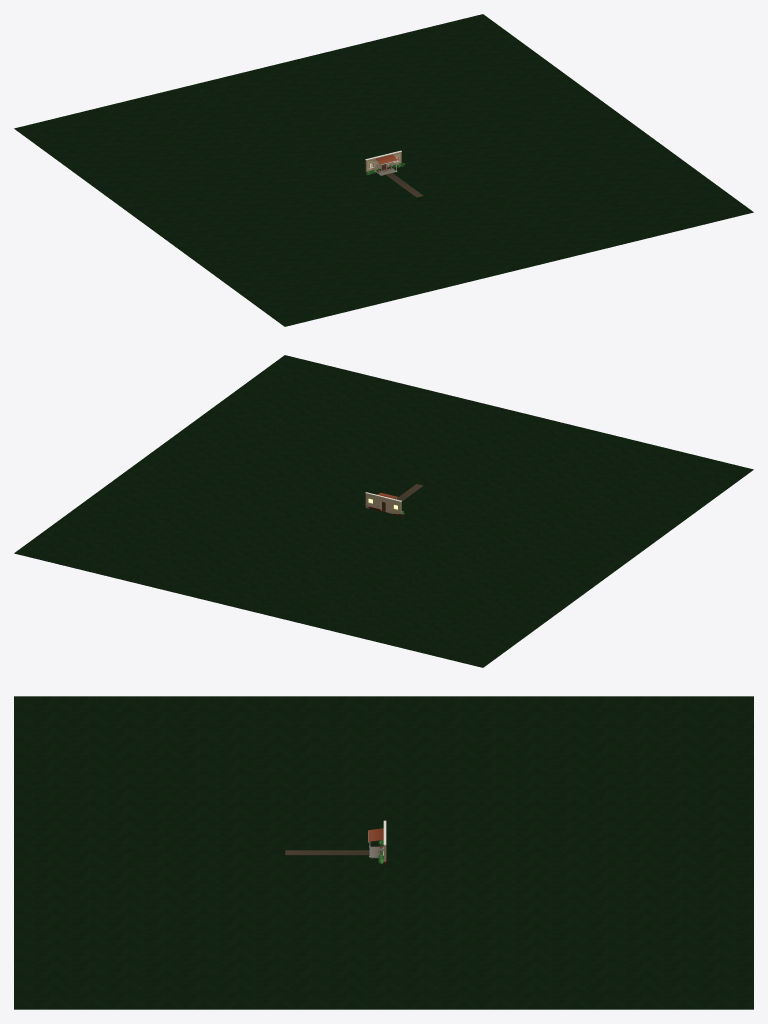
File: front-porch.glb
The picture shows the model from 3 angles, top to bottom: view 1: azimuth 30°, elevation 25°; view 2: azimuth 150°, elevation 25°; view 3: azimuth 270°, elevation 25°; orthographic projection. The views are drawn at different scales.
Parts seen in each view (by area): view 1: House; view 2: House; view 3: House.
Part boxes in pixels (x1=…): House: x1=14, y1=14, x2=753, y2=326; House: x1=14, y1=355, x2=753, y2=667; House: x1=14, y1=696, x2=753, y2=1009.
Bounding box in the file's own units: 120 × 3.67 × 120.
33 materials, 4 textured.
